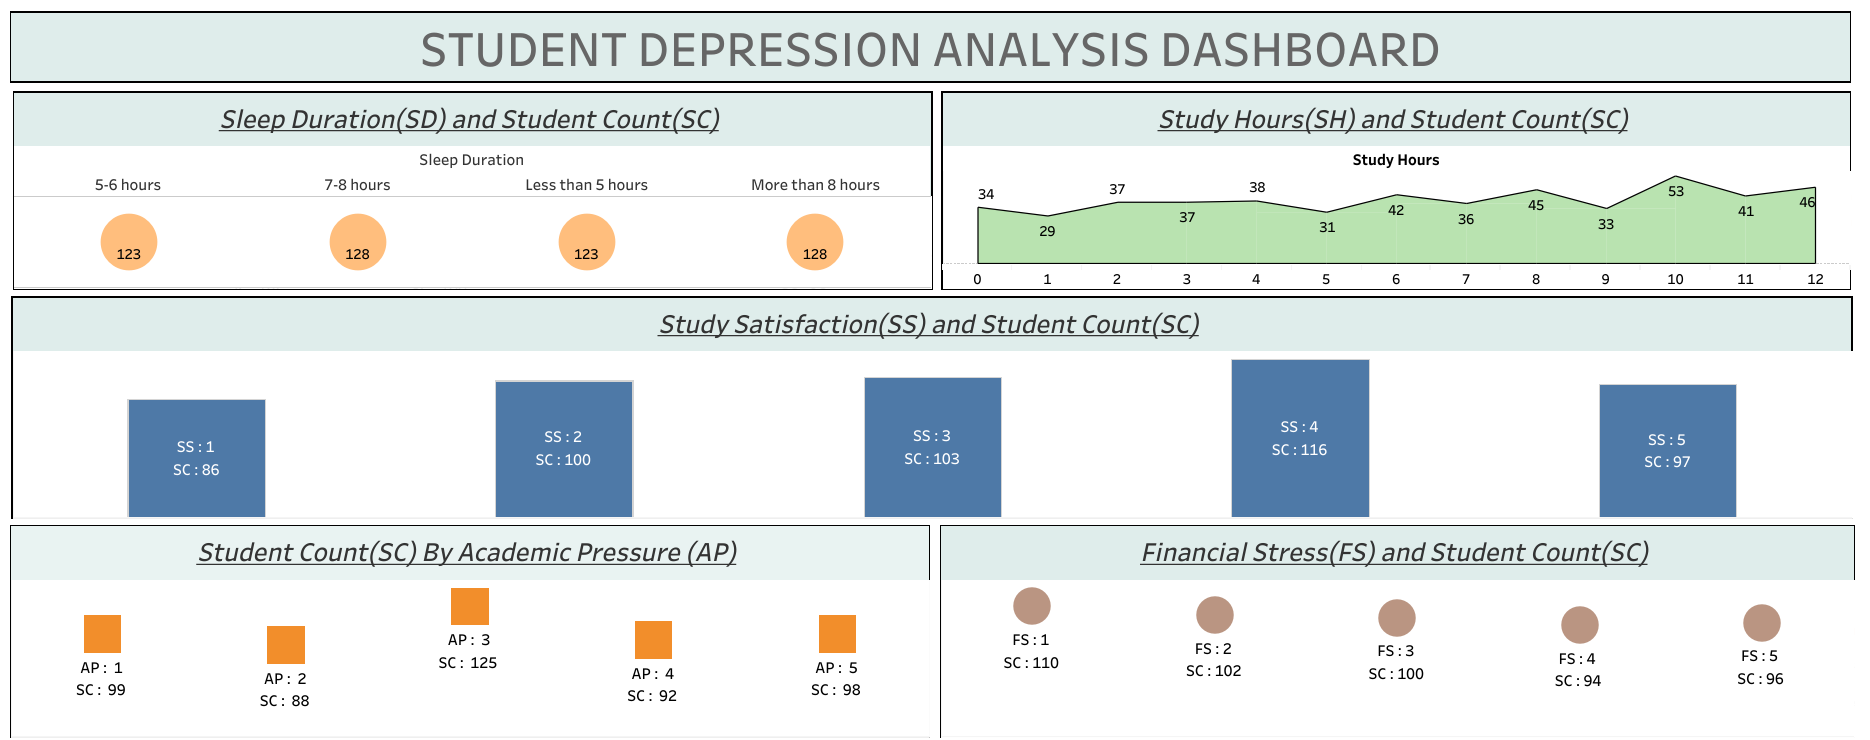

The page's visual inventory and layout, read from the dashboard file:
{"tool":"tableau","page":{"name":"Dashboard","canvas":[1000,1000],"units":"permille","ordinal":0},"visuals":[{"type":"text","box":[5.5,15.4,983.5,96]},{"type":"worksheet","title":"Sheet 4","mark":"Circle","cols":["Sleep_Duration"],"box":[6.7,122.9,491.8,268.9]},{"type":"worksheet","title":"Sheet 5","mark":"Area","rows":["index_column"],"cols":["Study_Hours"],"box":[502.8,122.9,486.9,267.6]},{"type":"worksheet","title":"Sheet 3","mark":"Automatic","rows":["index_column"],"cols":["Study_Satisfaction"],"box":[6.1,399.5,984.1,299.6]},{"type":"worksheet","title":"Sheet 1","mark":"Square","rows":["index_column"],"cols":["Academic_Pressure"],"box":[5.5,708.1,491.8,286.8]},{"type":"worksheet","title":"Sheet 2","mark":"Circle","rows":["index_column"],"cols":["Financial_Stress"],"box":[502.1,708.1,489.3,286.8]}]}

Visuals, with their boxes on the dashboard's canvas, which has no fixed pixel size, in thousandths of its width and height (x1, y1, x2, y2). These are canvas units, not pixel positions in the 1870x740 screenshot, which may show the page scaled, cropped or inside an application window:
text: (left=6, top=15, right=989, bottom=111)
"Sheet 4" worksheet (Circle marks): (left=7, top=123, right=498, bottom=392)
"Sheet 5" worksheet (Area marks): (left=503, top=123, right=990, bottom=390)
"Sheet 3" worksheet: (left=6, top=400, right=990, bottom=699)
"Sheet 1" worksheet (Square marks): (left=6, top=708, right=497, bottom=995)
"Sheet 2" worksheet (Circle marks): (left=502, top=708, right=991, bottom=995)
